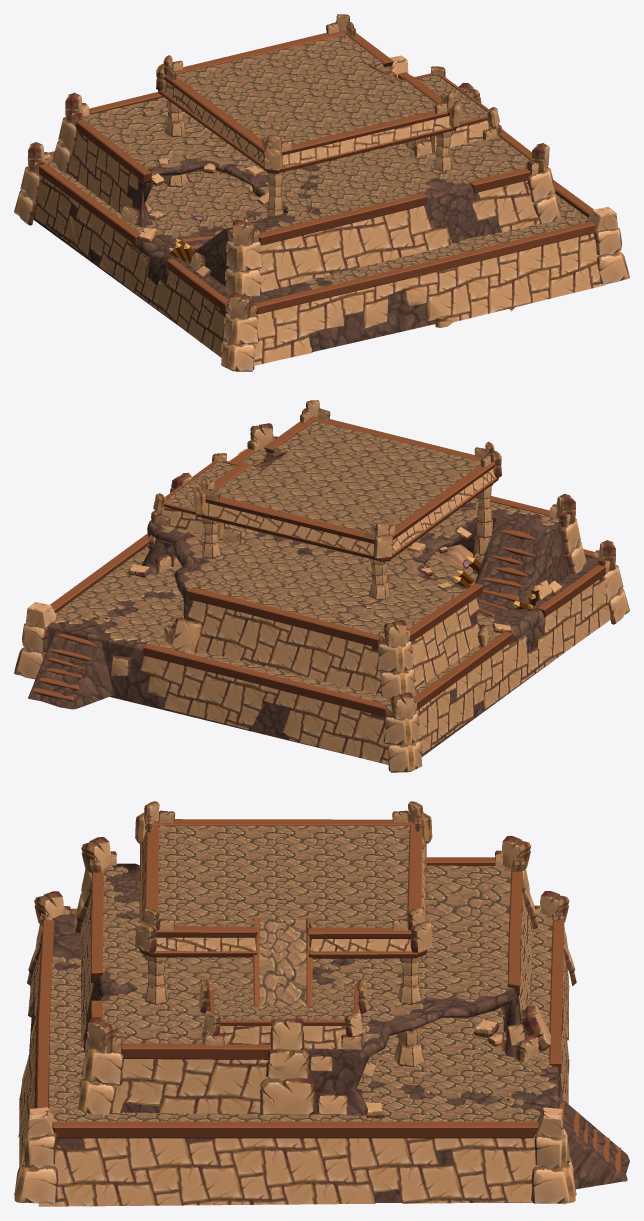
The model's file is pyramid_top_section_glb.glb.
3 views of the same model, one above another, from view 1: azimuth 30°, elevation 25°; view 2: azimuth 150°, elevation 25°; view 3: azimuth 270°, elevation 25° (orthographic). The views are drawn at different scales.
Visible parts, largest first — view 1: top_pyramid9; view 2: top_pyramid9; view 3: top_pyramid9.
Part boxes in pixels (bbox=[...]): top_pyramid9: bbox=[14, 14, 629, 371]; top_pyramid9: bbox=[14, 400, 629, 772]; top_pyramid9: bbox=[14, 801, 629, 1206].
Bounding box in the file's own units: 41.71 × 18.64 × 45.56.
6 materials, 6 textured.
